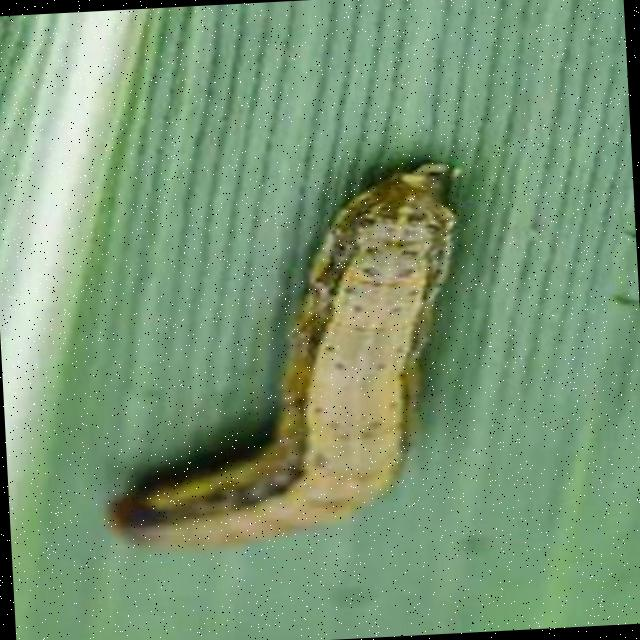worm: (90, 158, 483, 555)
